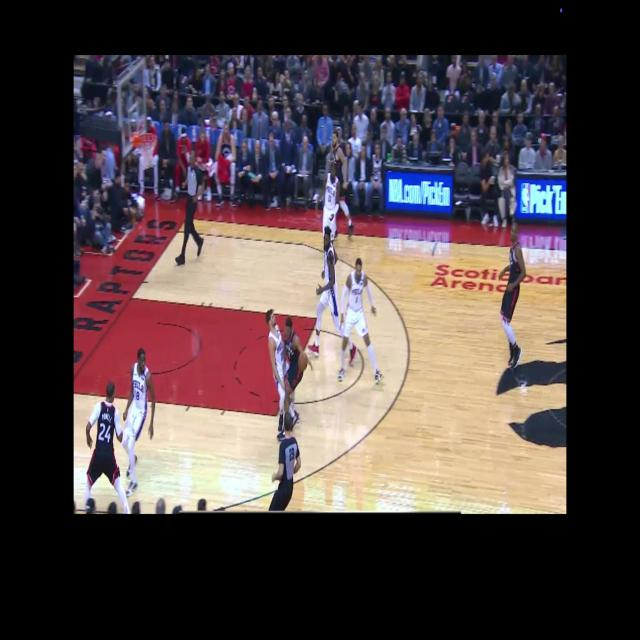Foul: (261, 296, 306, 418)
